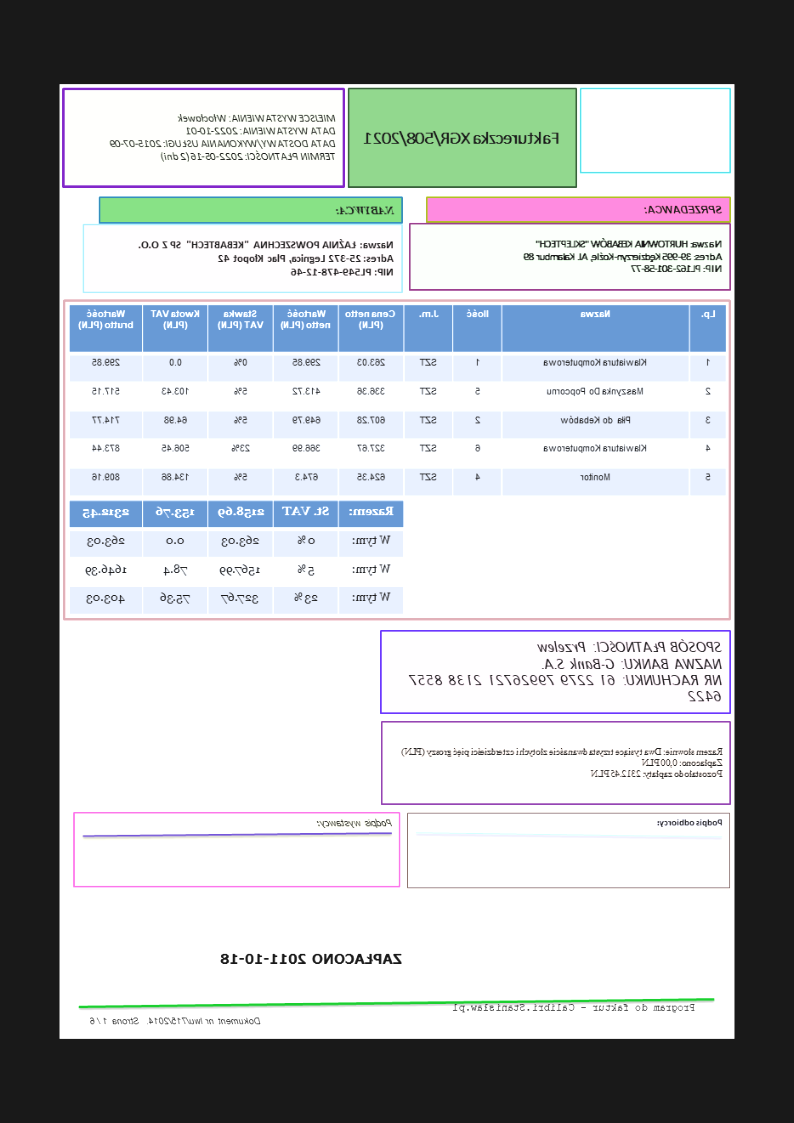Table: (70, 303, 728, 496), (71, 497, 406, 616)
TextBox: (404, 636, 725, 709), (396, 744, 728, 785), (106, 110, 341, 167), (134, 235, 397, 282), (519, 236, 728, 277), (363, 126, 565, 151), (216, 946, 409, 970), (450, 999, 699, 1016), (86, 1011, 265, 1029), (315, 813, 396, 835), (643, 201, 728, 219), (655, 814, 728, 832), (336, 201, 399, 218)
